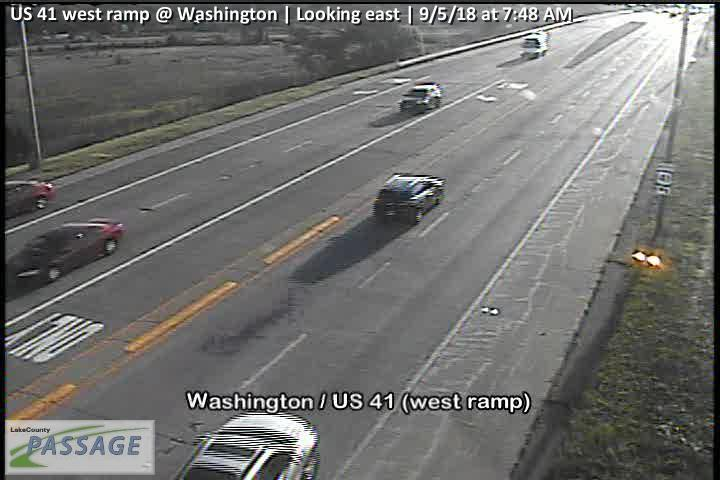Bus: (517, 32, 550, 61)
SUV: (166, 409, 323, 480), (396, 82, 444, 115)
Sedan: (6, 216, 126, 287), (373, 172, 447, 224), (2, 178, 58, 216)
